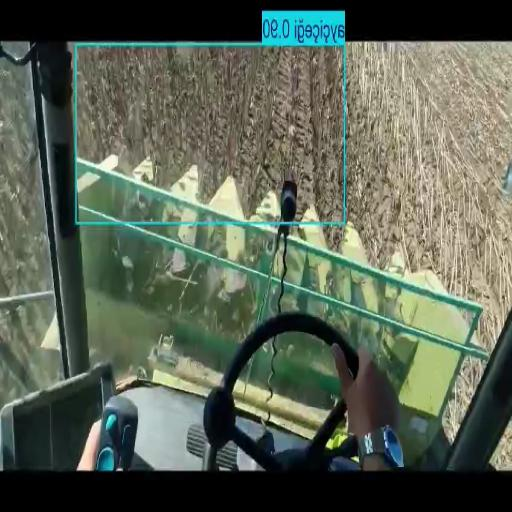ayc: (78, 46, 344, 219)
